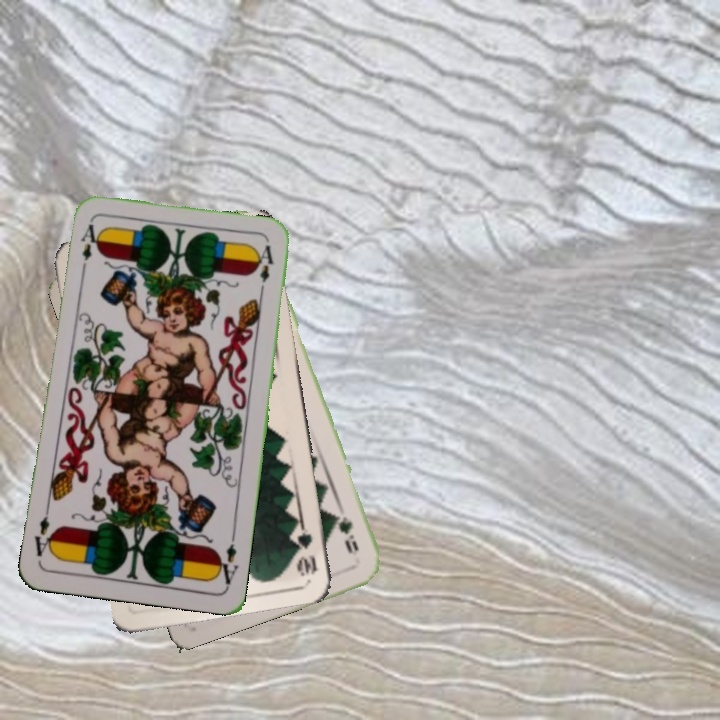EA: (212, 529, 241, 589), (77, 220, 97, 277)
G10: (291, 520, 319, 579)
G9: (331, 508, 361, 556)
